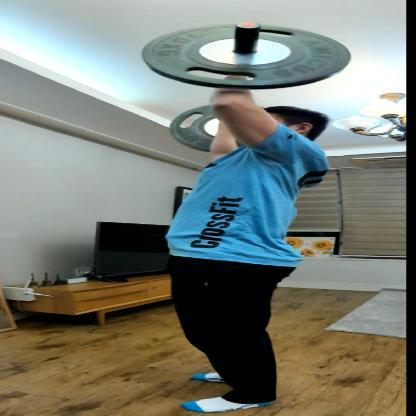barbell: (143, 21, 352, 153)
